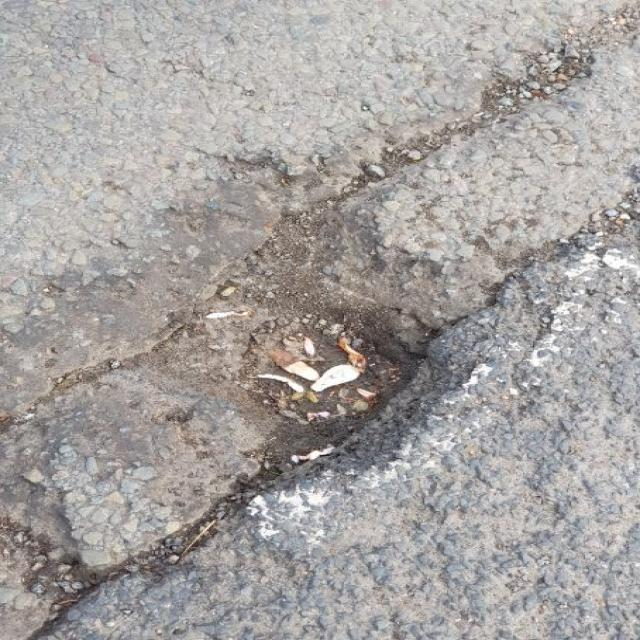pothole: (0, 141, 548, 614)
